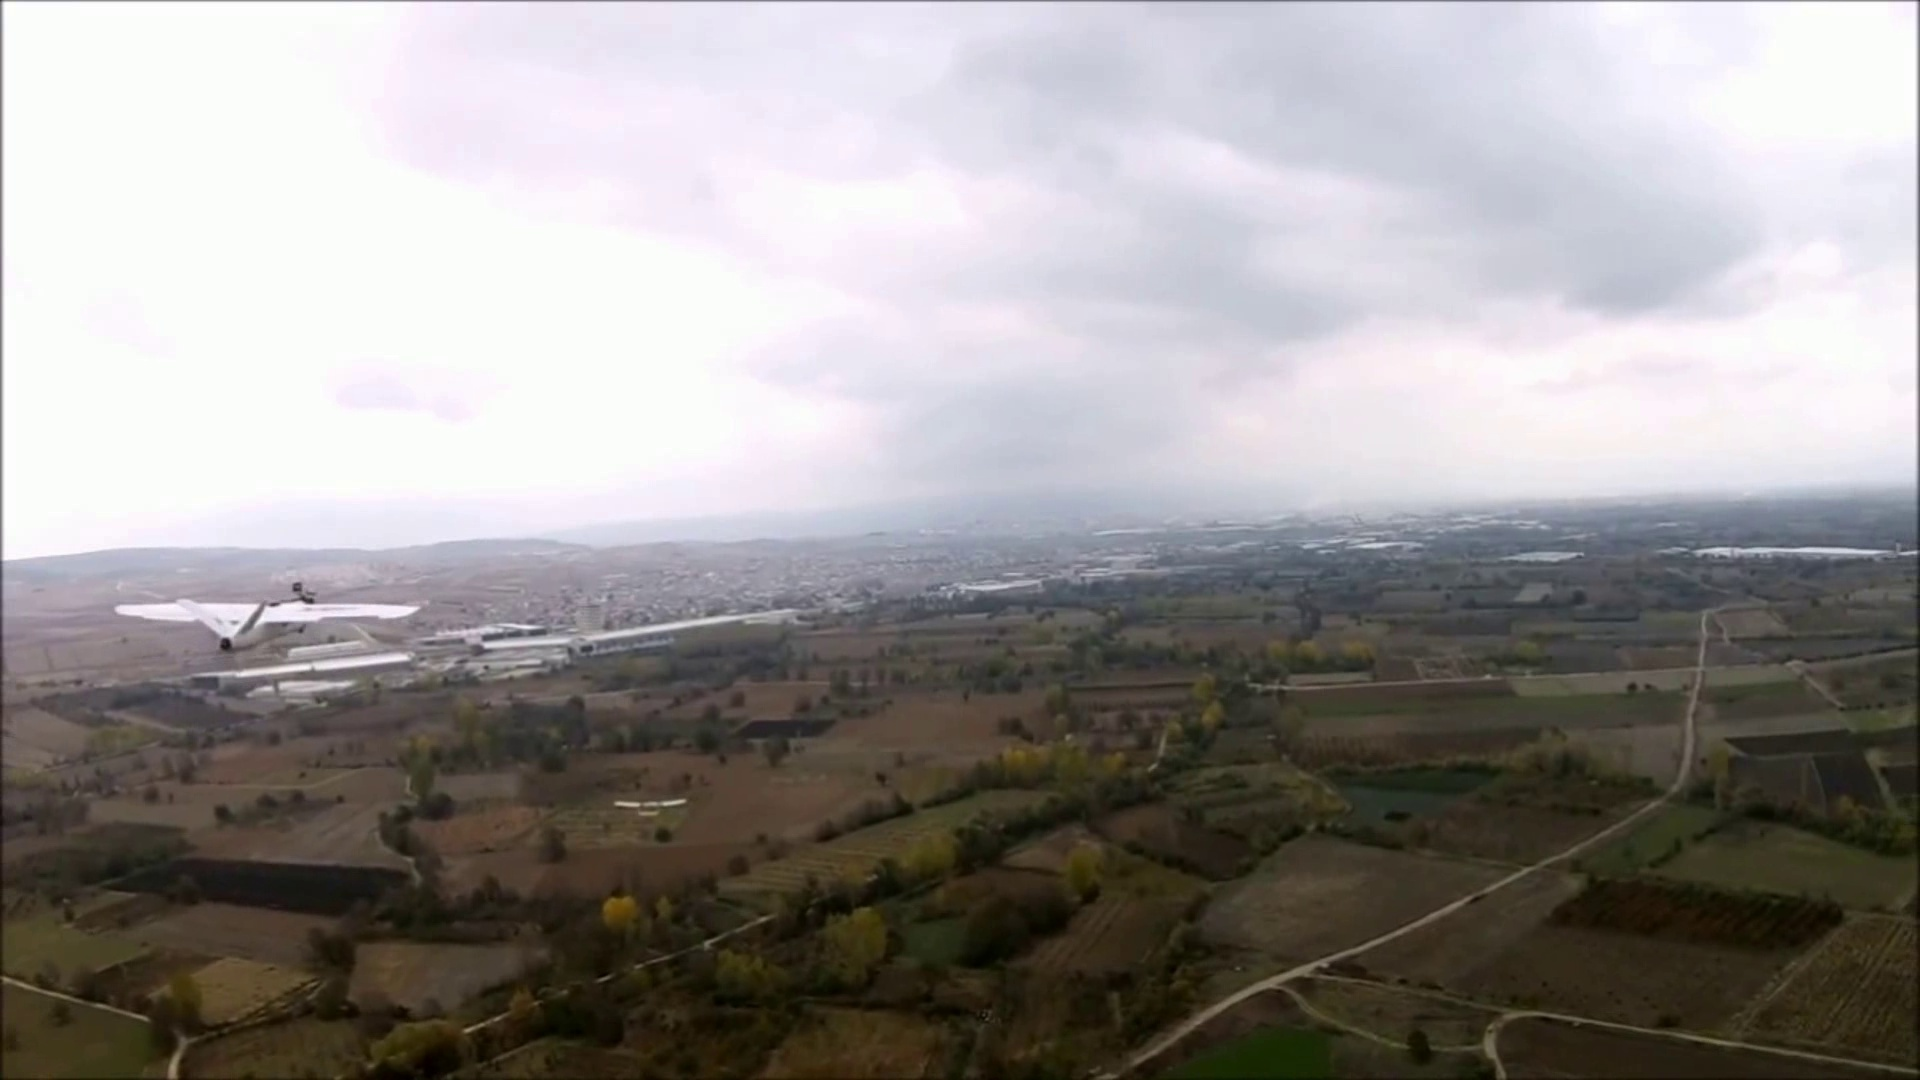airplane: (111, 580, 424, 655)
